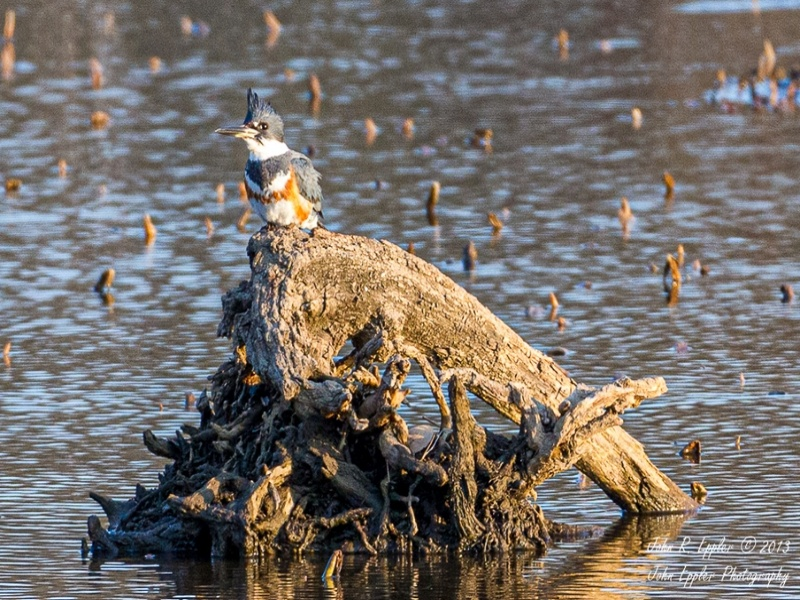kingfisher: (218, 87, 326, 236)
